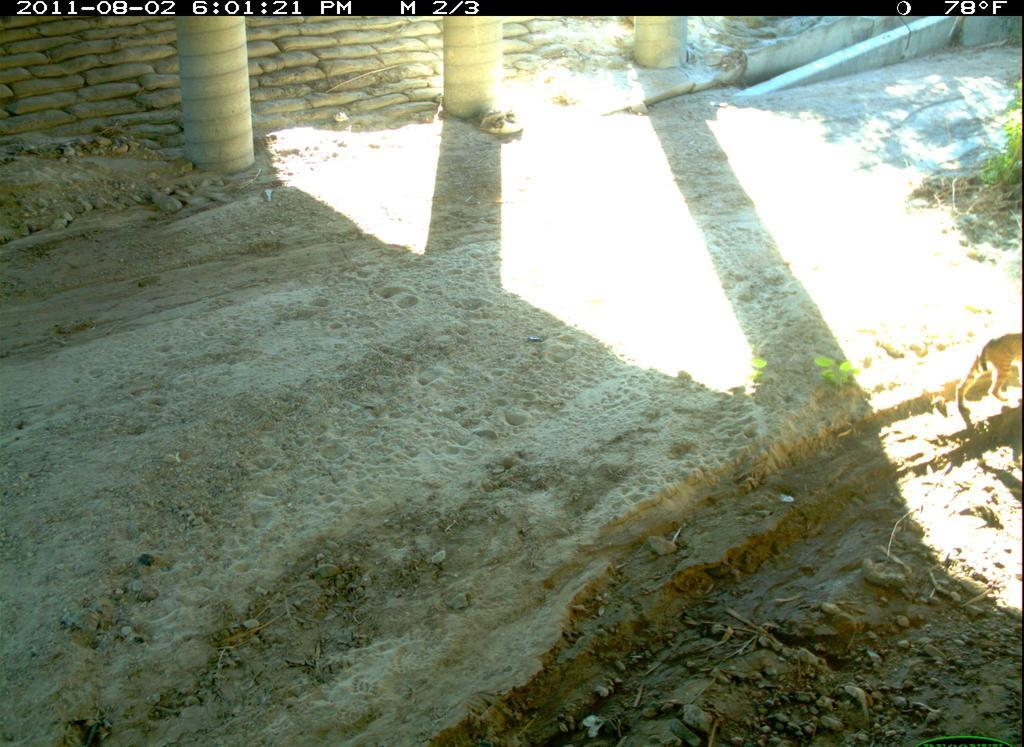bobcat: (950, 312, 1023, 431)
